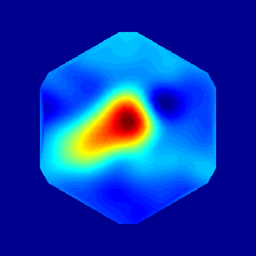ship: (140, 91, 183, 123)
wave: (50, 97, 154, 163)
